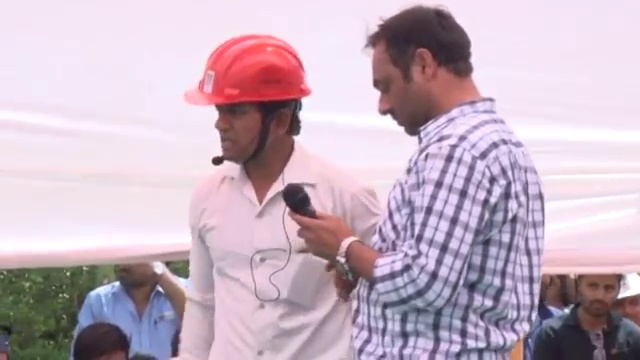helmet: (189, 41, 315, 108), (617, 279, 640, 301)
helmet_off: (371, 9, 483, 106), (577, 270, 622, 325), (70, 322, 129, 360), (111, 262, 158, 300)
helmet_on: (187, 41, 317, 176), (618, 281, 640, 324)
person: (315, 5, 557, 360), (179, 47, 383, 360), (71, 258, 187, 360), (532, 272, 640, 356)
